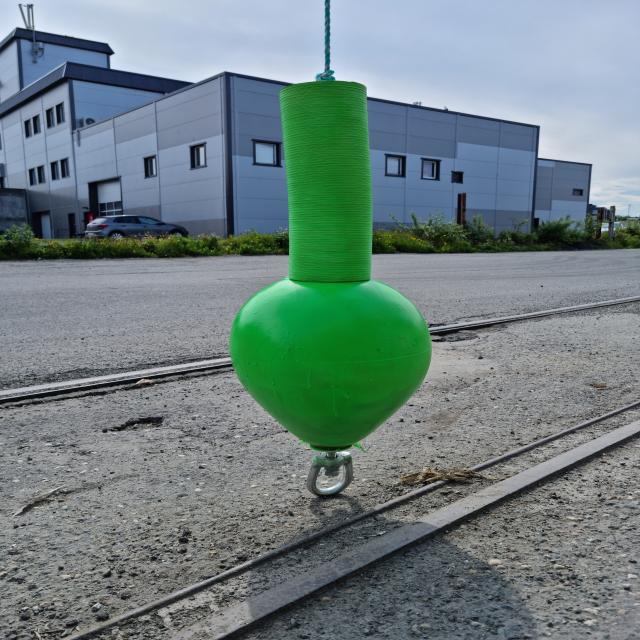green: (227, 80, 434, 447)
